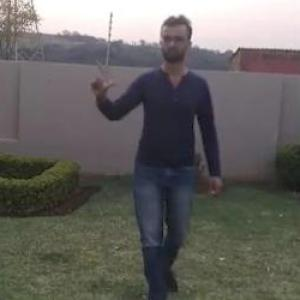land_hand: (85, 52, 115, 103)
